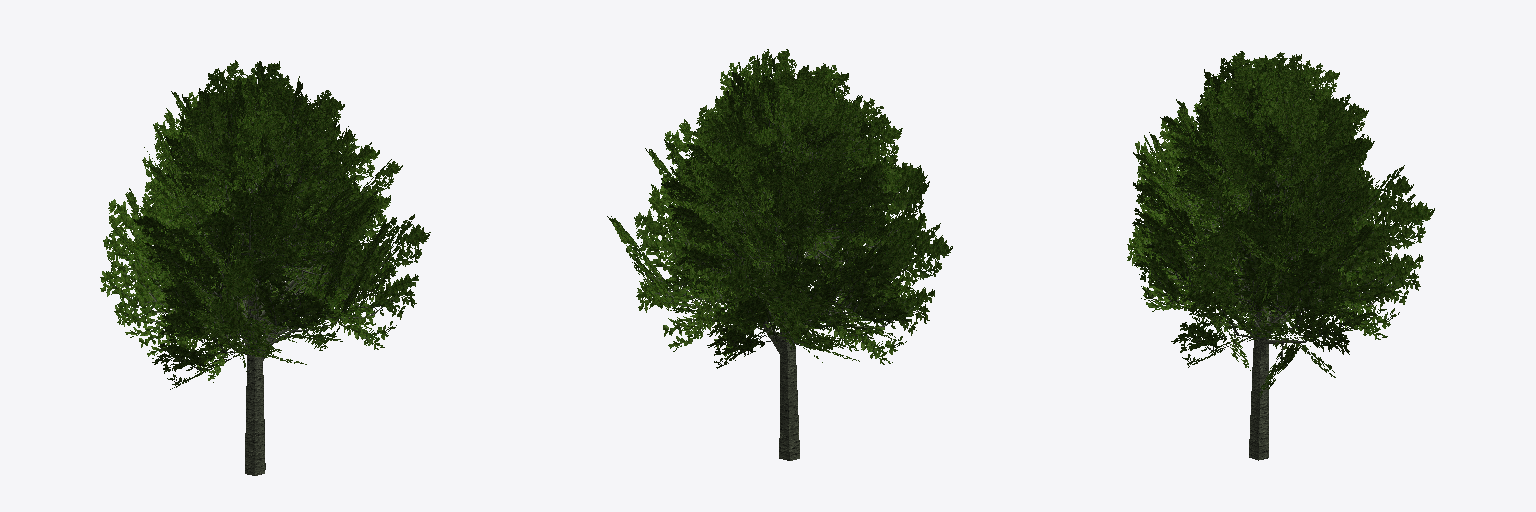
3 renders of one model, left to right at view 1: azimuth 30°, elevation 25°; view 2: azimuth 150°, elevation 25°; view 3: azimuth 270°, elevation 25°, orthographic.
Visible parts, largest first — view 1: Default; view 2: Default; view 3: Default.
Part boxes in pixels (bbox=[...]): Default: bbox=[100, 60, 430, 475]; Default: bbox=[607, 49, 952, 460]; Default: bbox=[1127, 51, 1434, 460].
Size of the model in its own units: 19.21 by 19.23 by 17.65.
Materials: 2 (2 with a texture image).